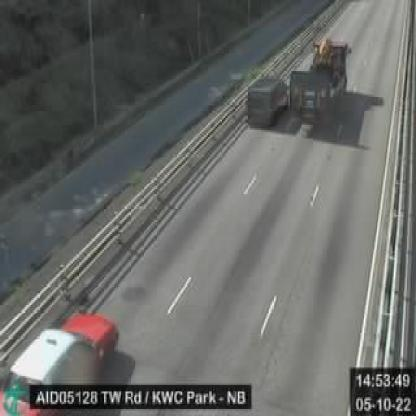Car: (0, 310, 117, 414), (246, 73, 287, 123)
Truck: (291, 36, 350, 114)
